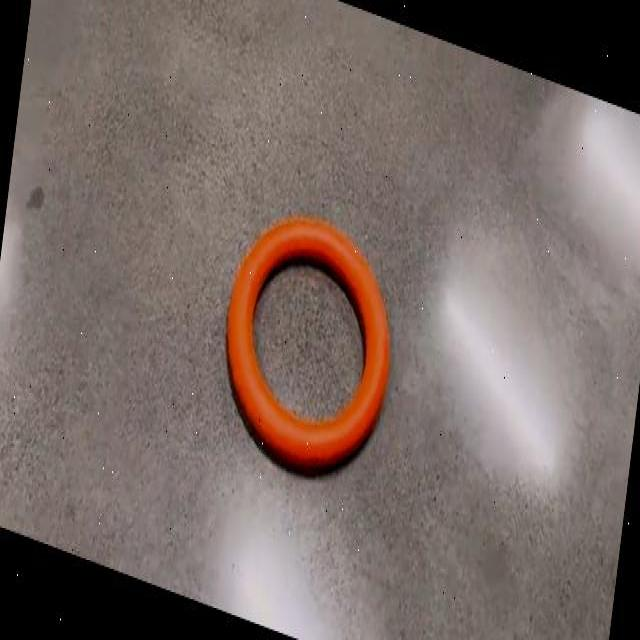note: (227, 216, 390, 469)
